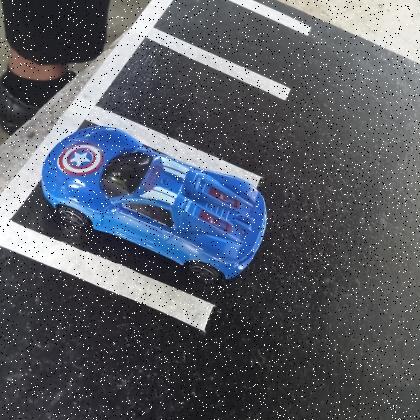Car: (41, 126, 267, 282)
